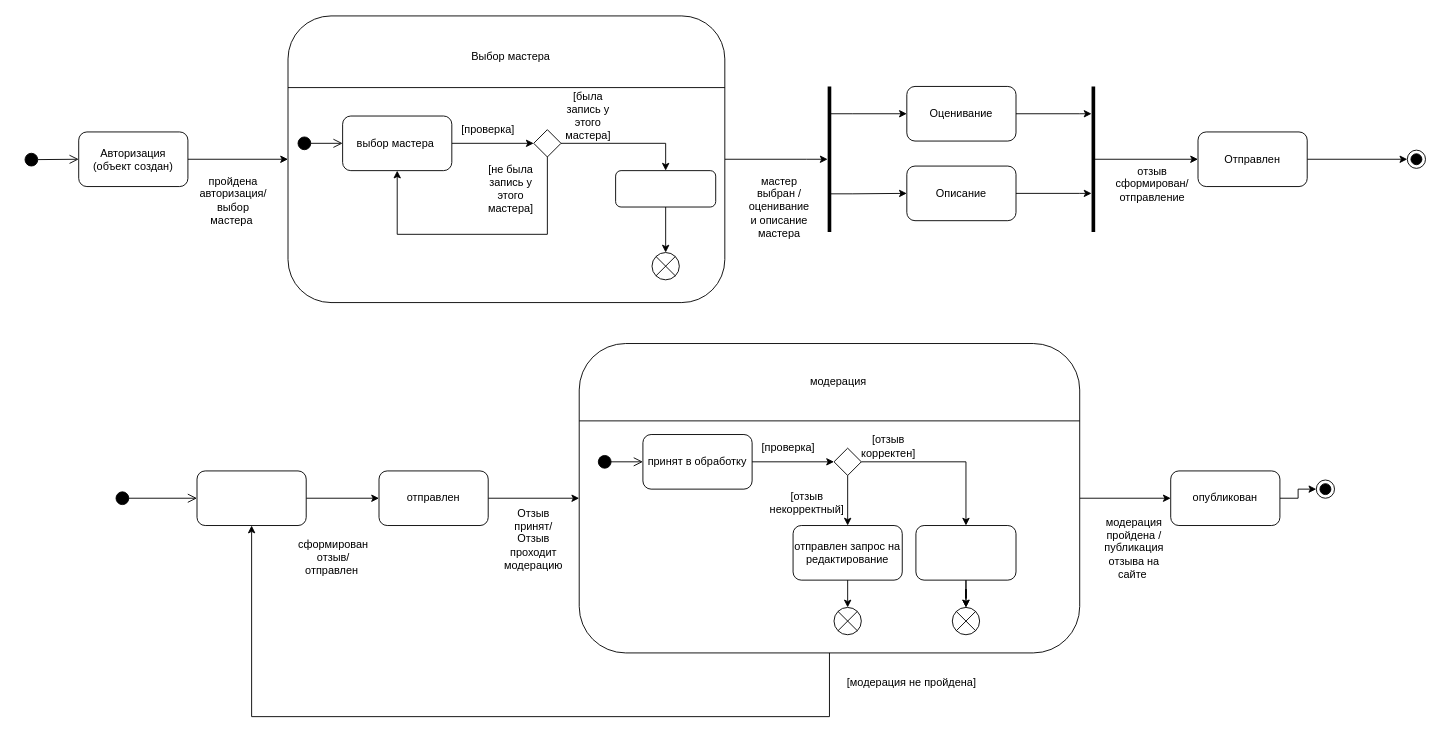
Some shapes in this 1441 by 740 pixel diagram are drawn without their labels. The centre of each missing label's shape, as x and y in pixels:
в процессе редактирования: the point at 251,498
обработан: the point at 965,552
Отзыв с мастером: the point at 665,188
